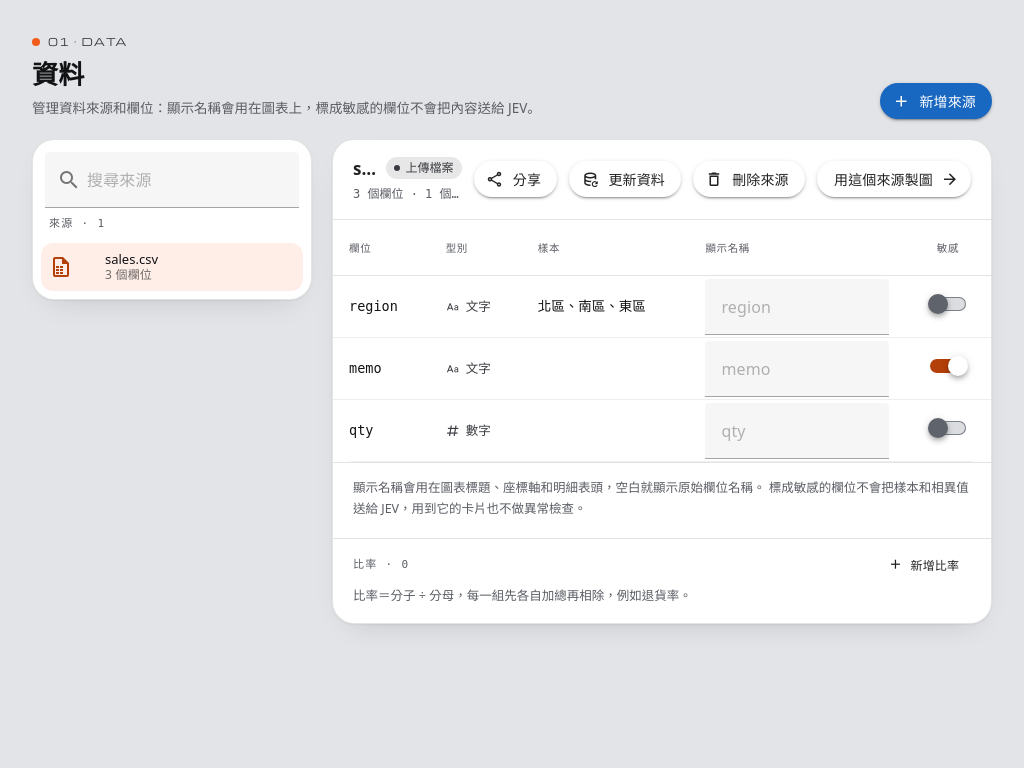
DatasourcePanel › a successful sensitive toggle clears a previous toggle error
Click the checkbox named "region 敏感": x=938, y=304 [918,284,958,324]
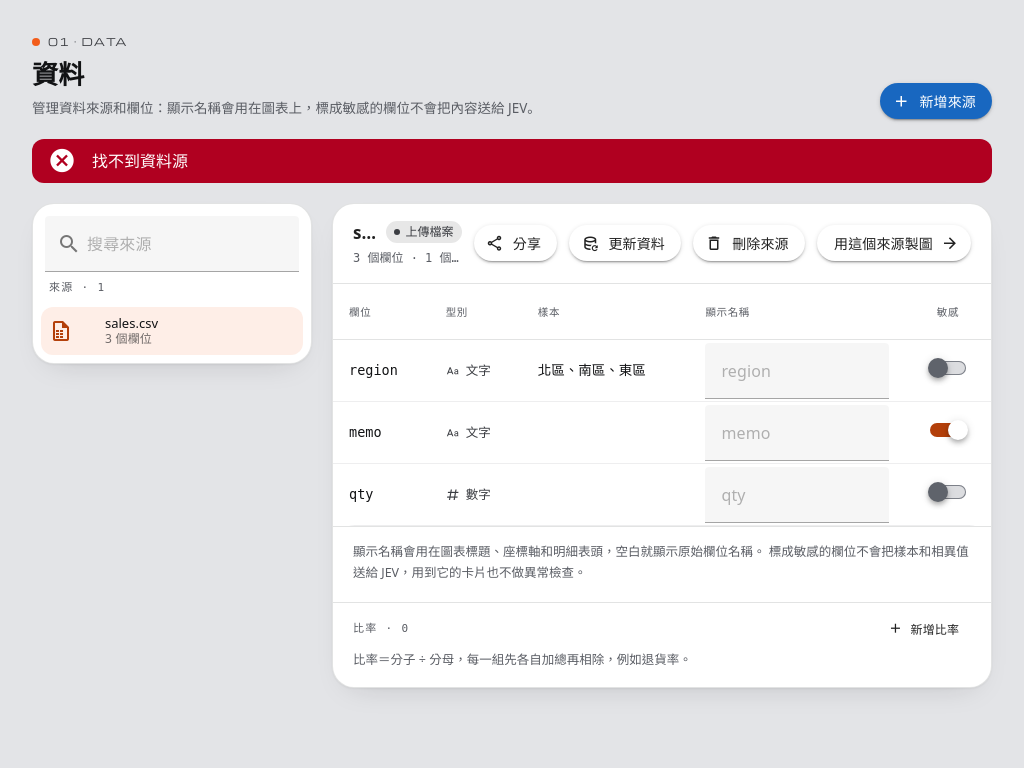
Expected: the text "找不到資料源" is shown, [92,150,188,172]
Click the checkbox named "memo 敏感": x=958, y=430 [938,410,978,450]
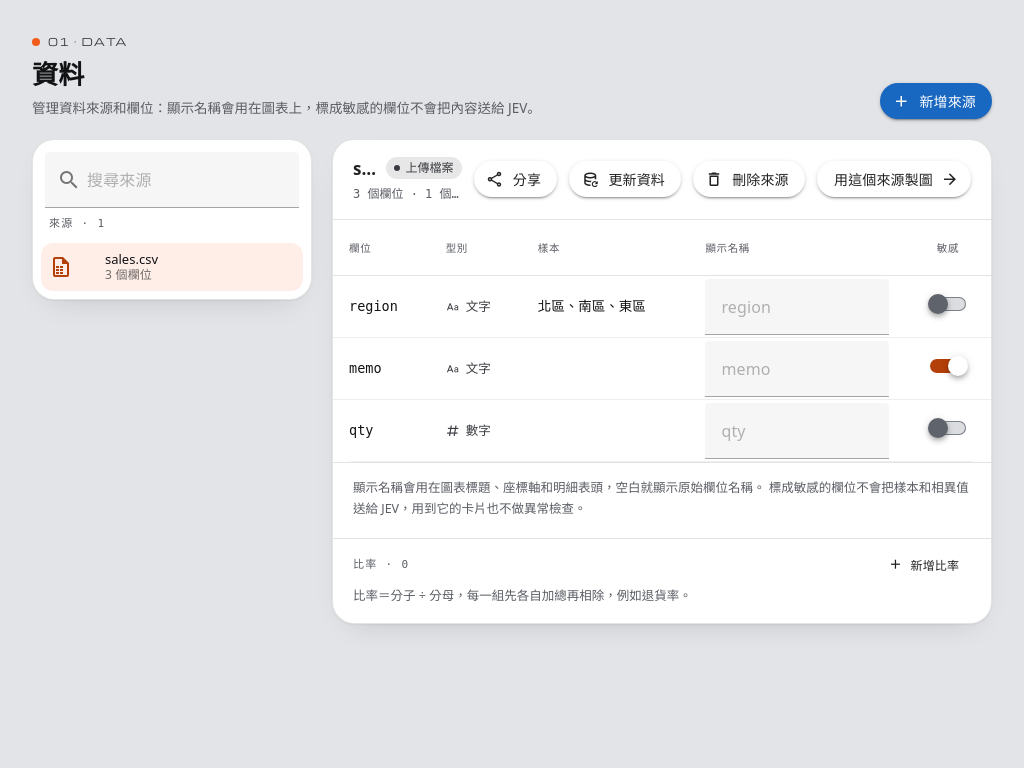
Expected: the text "找不到資料源" is gone
